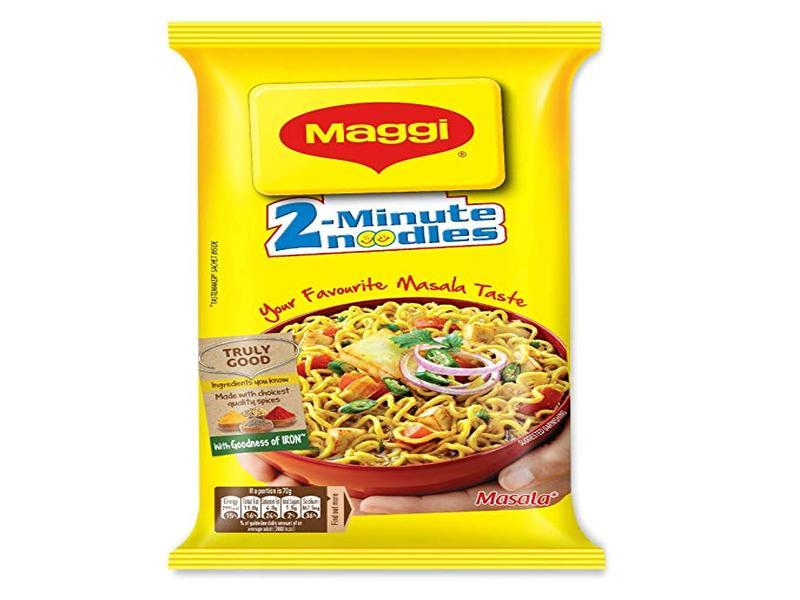maggi-small: (178, 18, 617, 564)
